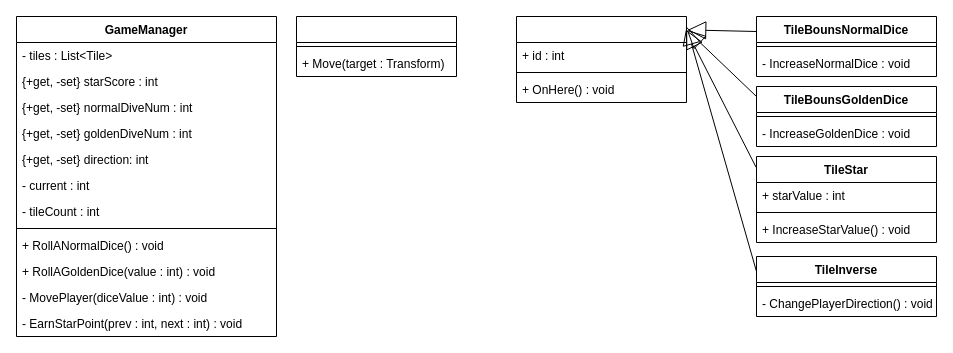
Image size: 953x353. Some labels were removed from this diagram. The shapes that lost their labels are listed below. From the top down, each one's box as (x1, y1, x2, y2) in pixels, then its label:
(296, 16, 456, 76): Player
(516, 16, 686, 102): Tile
